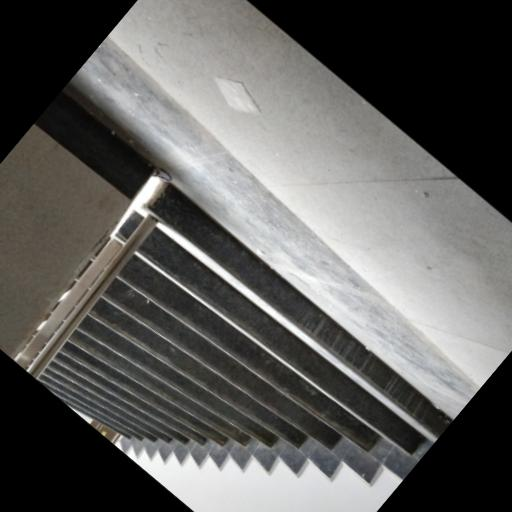stairs: (40, 184, 451, 454)
